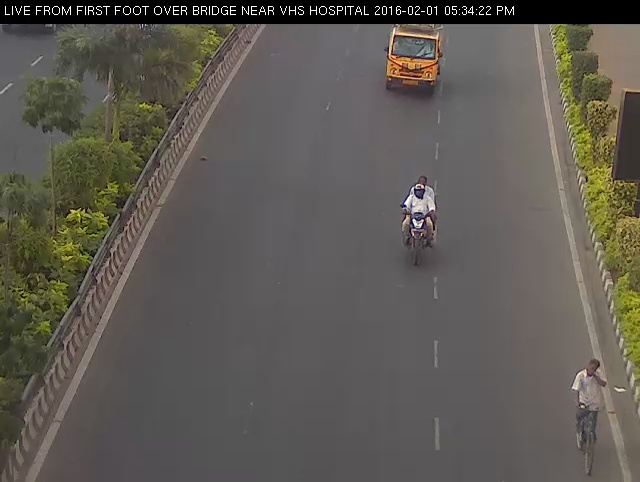Car: (378, 20, 450, 103)
Person: (391, 169, 449, 278)
